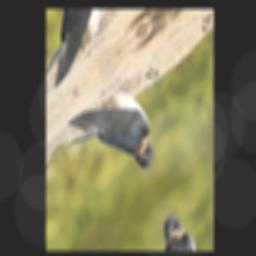Swallow: (60, 67, 162, 219)
